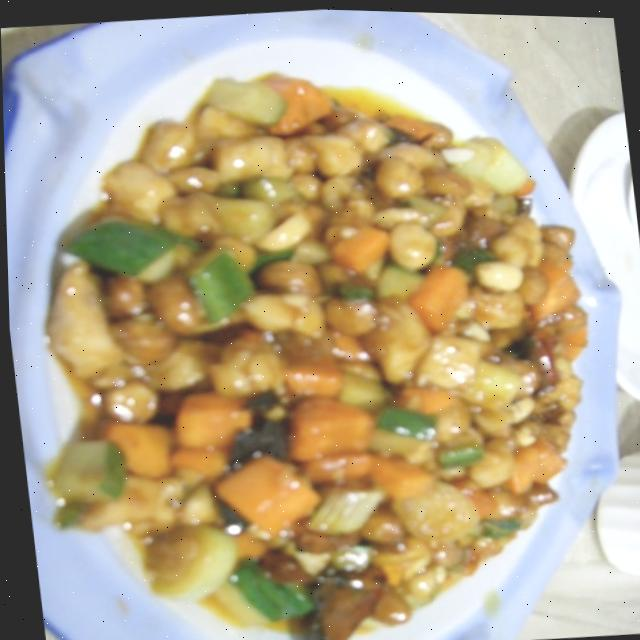鸡肉料理 含炸鸡: (0, 8, 640, 640)
